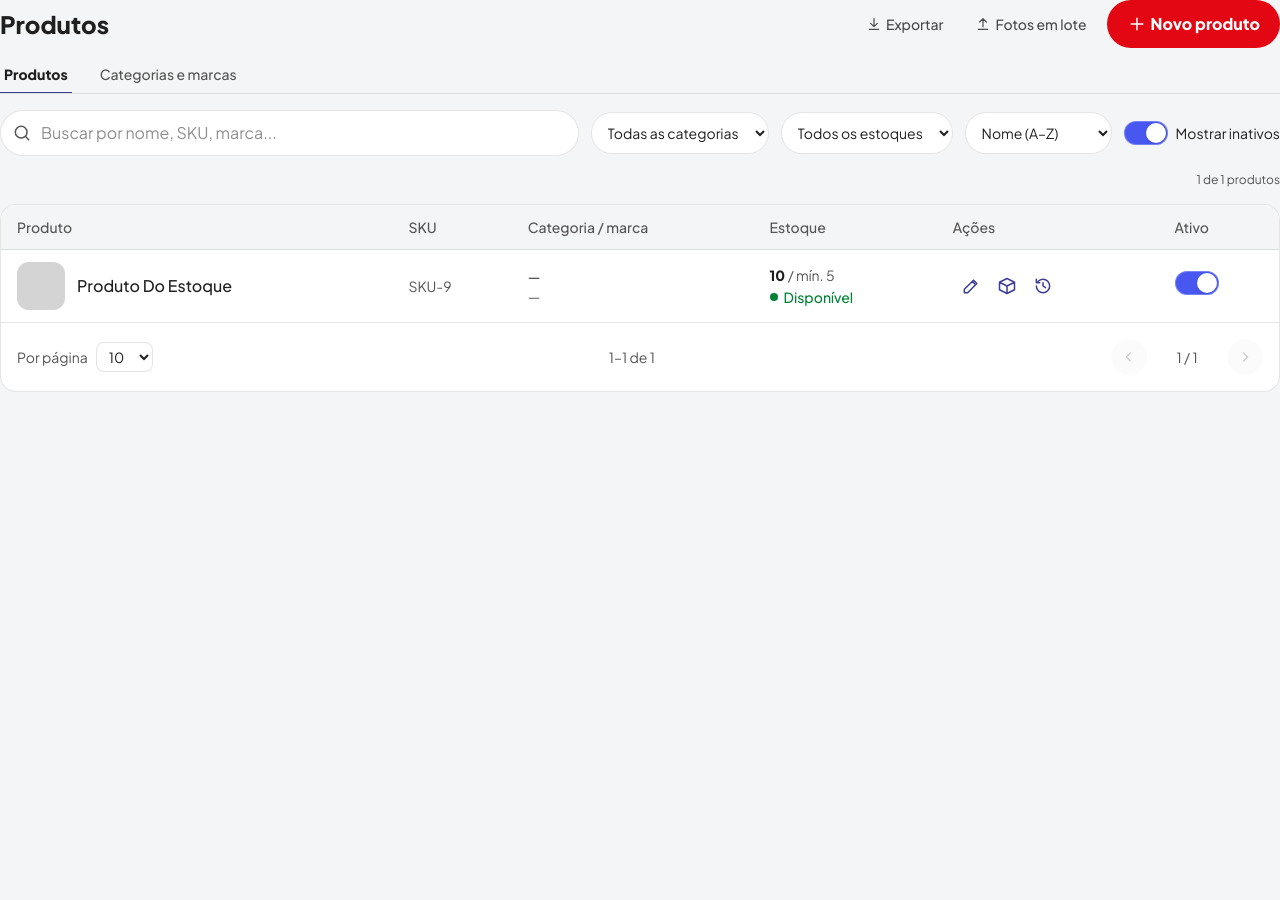
Test: Janela de estoque: formulário de ajuste › usa rótulos curtos e o texto de ajuda muda com o modo
Click the button named "Ajustar estoque de Produto Do Estoque" at (1007, 286), box [989,268,1025,304]
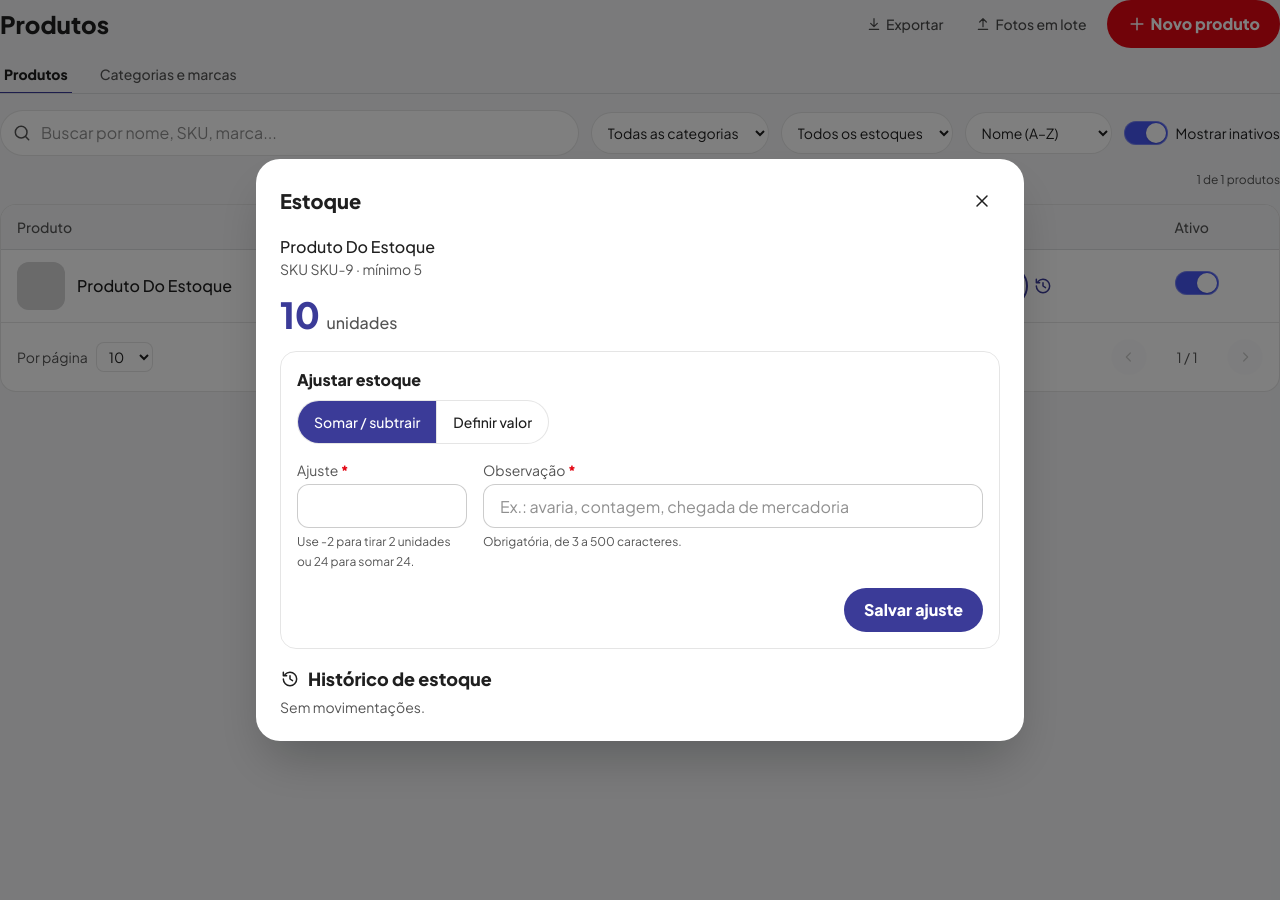
Expected: the number field labelled "Ajuste *" is shown, [297,484,467,528]
Expected: the field labelled "Observação *" is shown, [483,484,983,528]
Expected: the text "Use -2 para tirar 2 unidades ou 24 para somar 24." is shown, [297,532,467,572]
Click the button "Definir valor" at (492, 422), box [436,401,548,443]
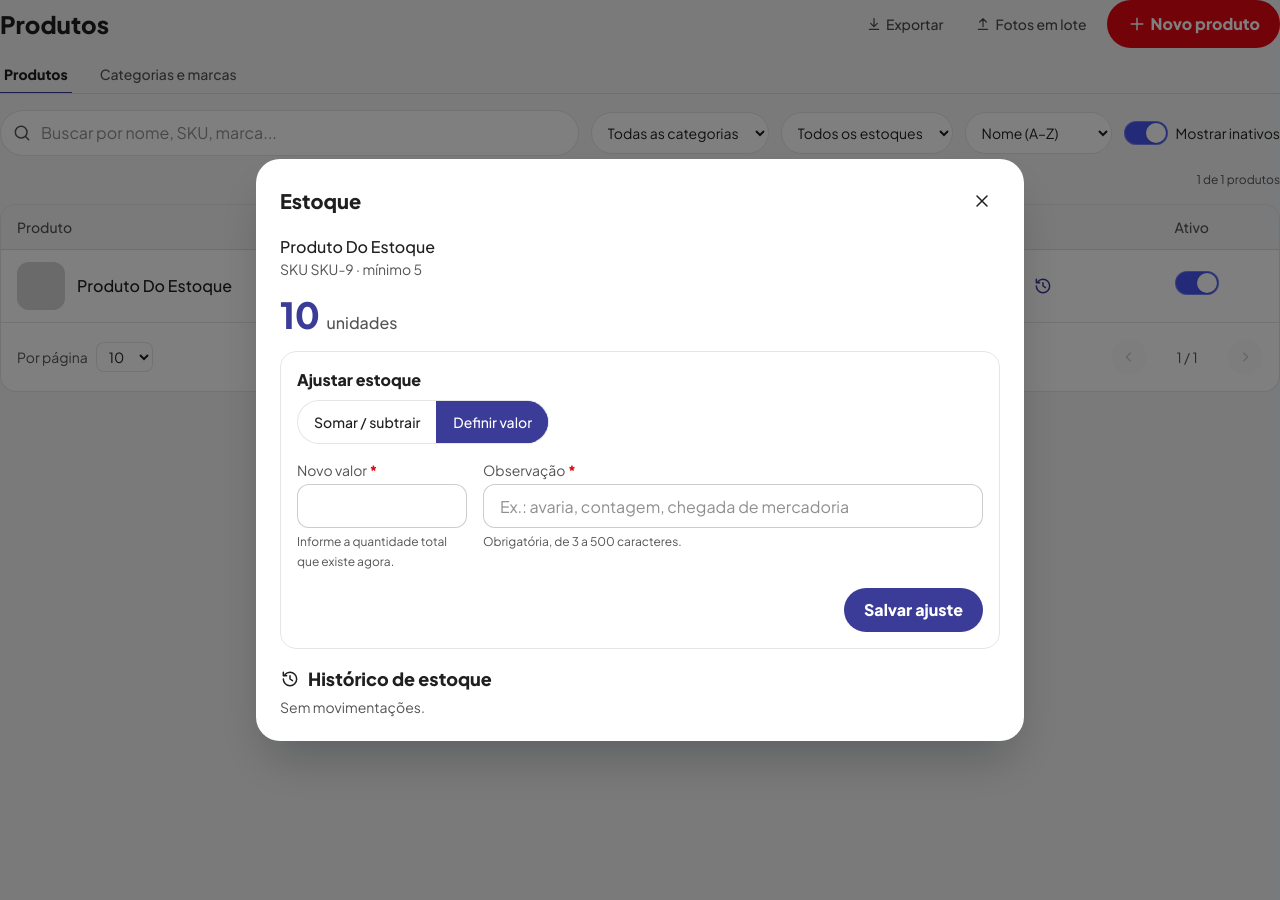
Expected: the number field labelled "Novo valor *" is shown, [297,484,467,528]
Expected: the text "Informe a quantidade total que existe agora." is shown, [297,532,467,572]
Expected: the text "Use -2" is gone
